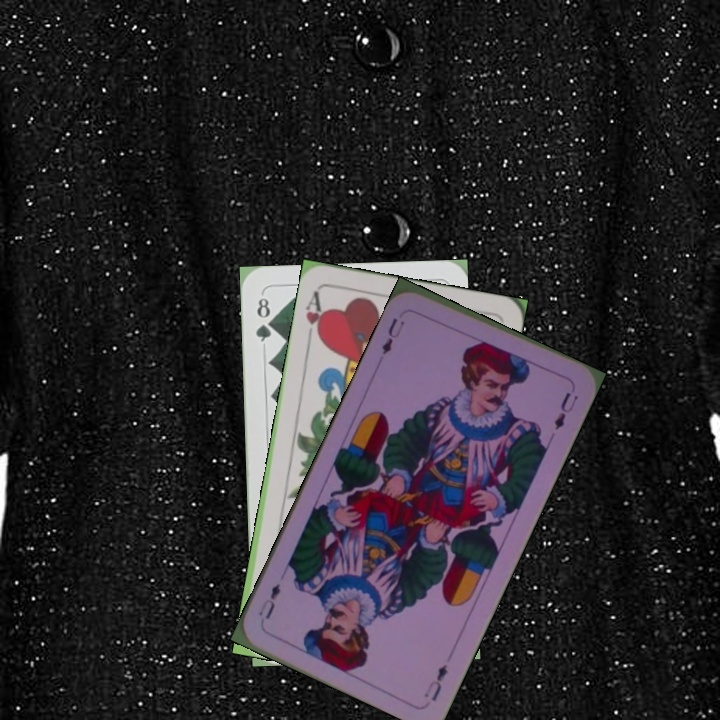EU: (377, 313, 408, 358), (420, 660, 450, 704)
G8: (251, 293, 275, 345)
HA: (301, 287, 329, 346)
